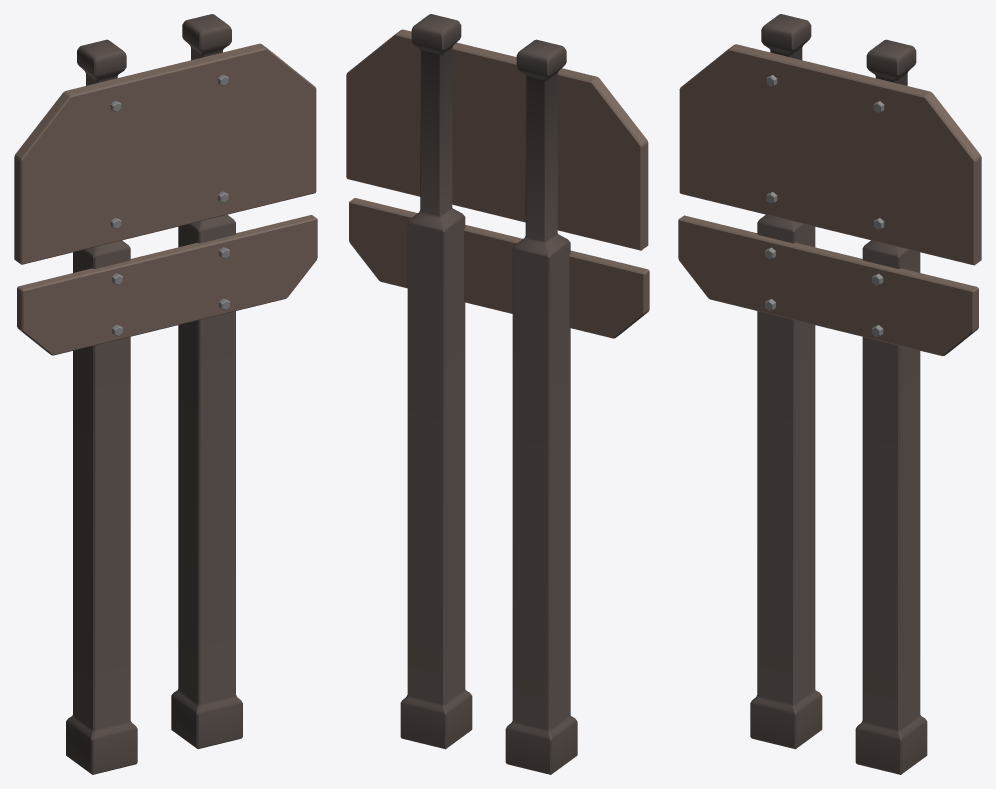
The model's file is props_72.glb.
3 renders of one model, left to right at view 1: azimuth 30°, elevation 25°; view 2: azimuth 150°, elevation 25°; view 3: azimuth 330°, elevation 25°, orthographic.
Visible parts, largest first — view 1: props_72; view 2: props_72; view 3: props_72.
Part boxes in pixels (left/top/right/bottom): props_72: left=14, top=14, right=317, bottom=774; props_72: left=346, top=14, right=649, bottom=774; props_72: left=678, top=14, right=981, bottom=774.
Size of the model in its own units: 1.13 by 2.6 by 0.204.
Materials: 1 (1 with a texture image).
